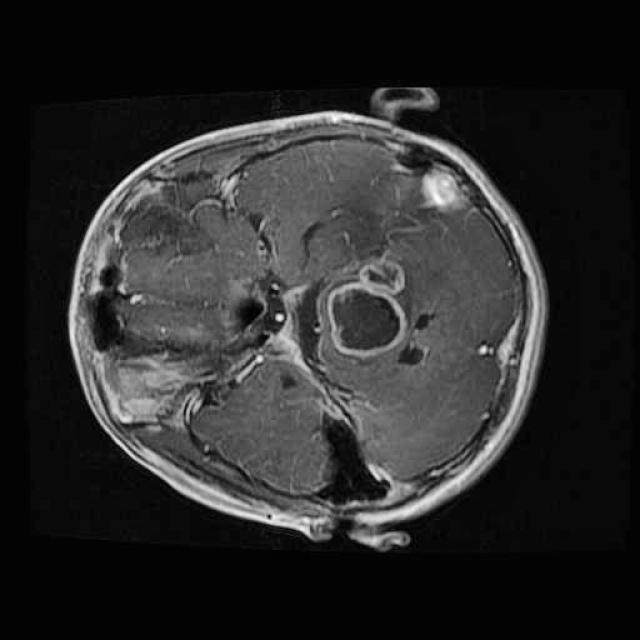Non-Tumor: (319, 243, 414, 378)
